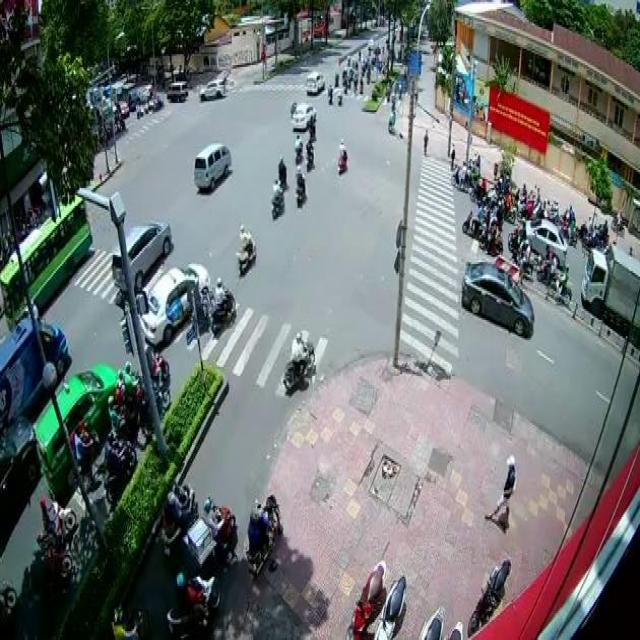bus: (0, 195, 92, 327)
car: (33, 362, 116, 494), (136, 262, 209, 344), (459, 259, 534, 338), (110, 221, 170, 289), (525, 217, 566, 266), (290, 100, 316, 128)
motorcycle: (281, 329, 315, 391), (210, 275, 238, 340), (236, 222, 257, 275), (270, 174, 284, 222), (294, 161, 308, 208), (338, 136, 348, 176)
truck: (0, 311, 71, 416), (581, 242, 640, 333), (193, 141, 232, 193)
